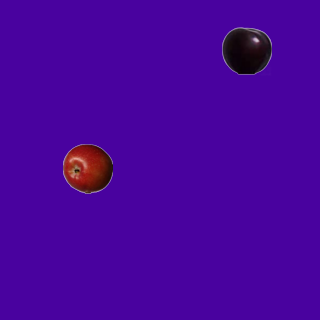Apple Braeburn: (62, 143, 112, 193)
Cherry Wax Black: (221, 25, 271, 75)
